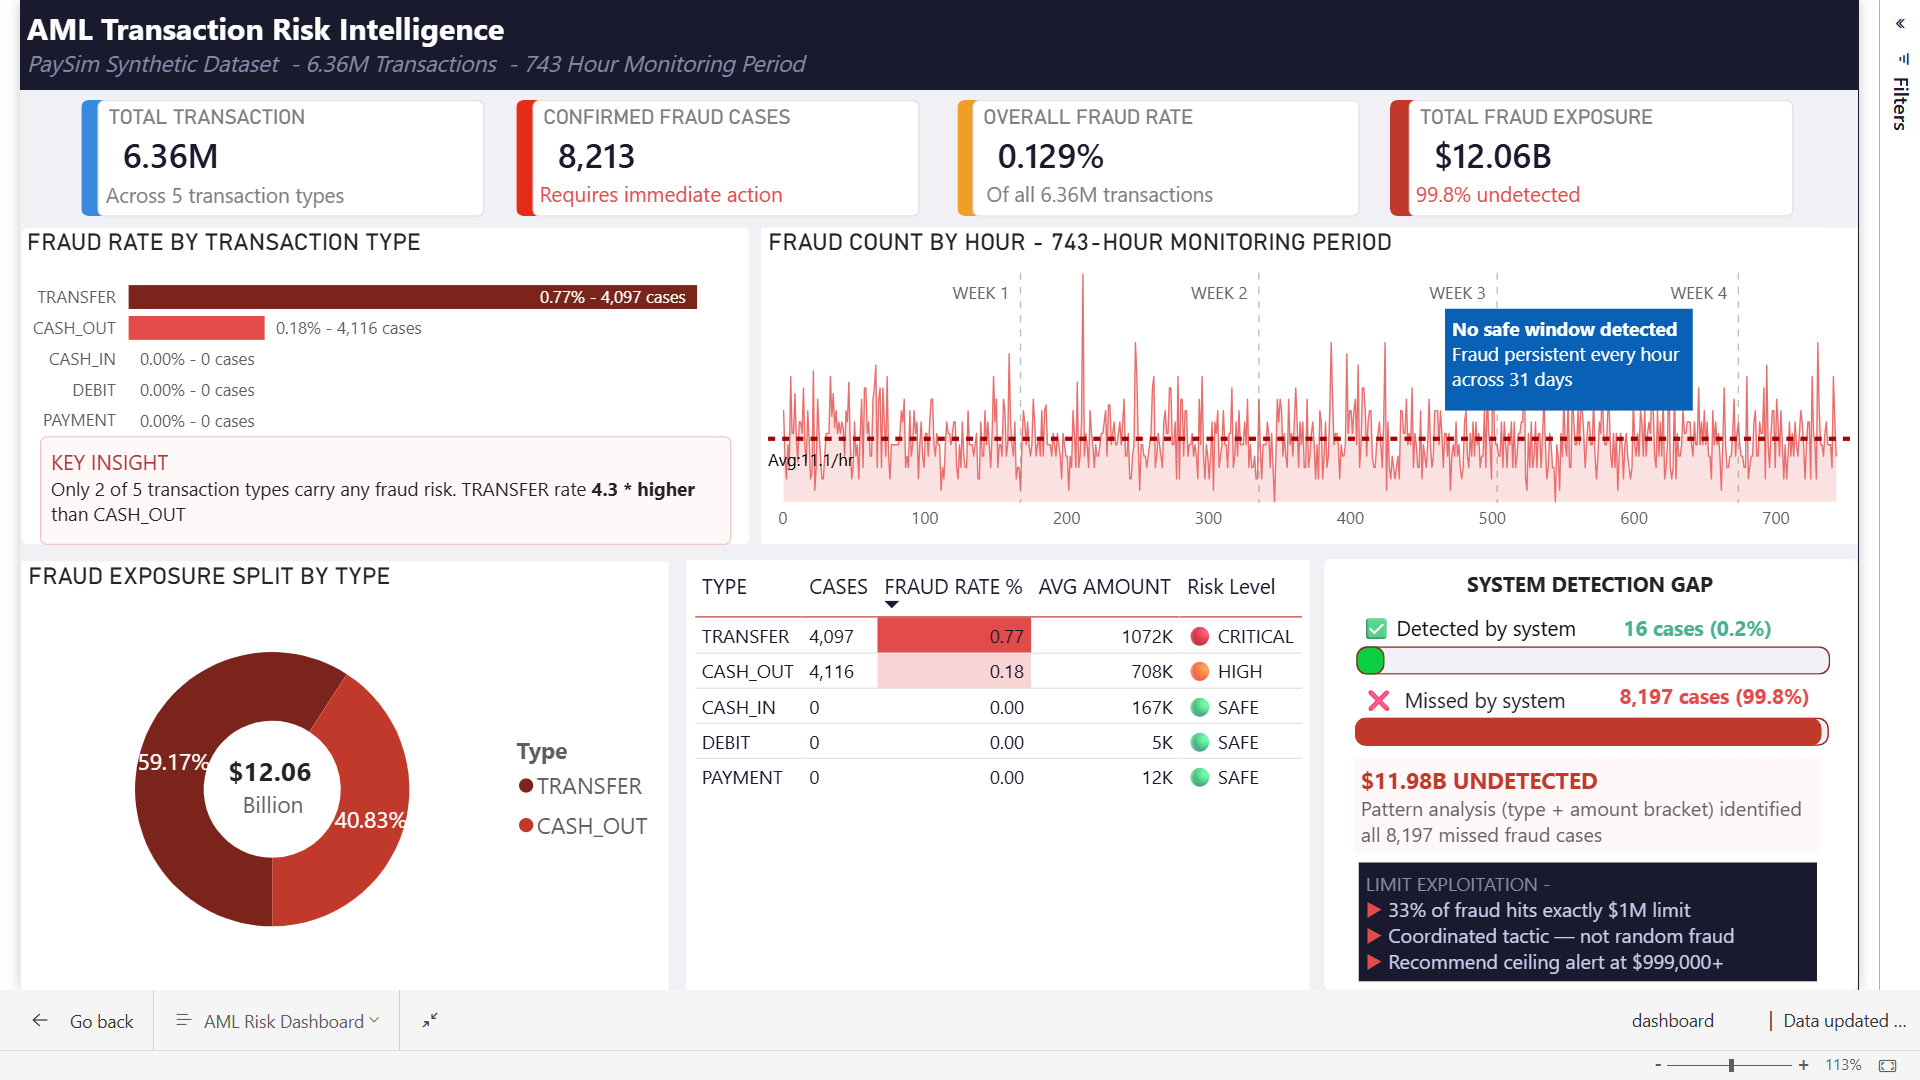

The page's visual inventory and layout, read from the dashboard file:
{"tool":"powerbi","page":{"name":"AML Risk Dashboard","canvas":[1300,700],"ordinal":0},"visuals":[{"type":"shape","box":[0,63.3,1299.6,810.5],"z":0},{"type":"textbox","box":[0,0,658,63],"z":1000},{"type":"shape","box":[43.4,70.4,285,82.1],"z":2000},{"type":"cardVisual","title":"TOTAL TRANSACTION","fields":{"Data":["fraud_summary.Total Transaction"]},"box":[55.1,70.4,273.3,82.1],"z":3000},{"type":"shape","box":[350.7,70.4,285,82.1],"z":4000},{"type":"shape","box":[662.7,70.4,283.8,82.1],"z":5000},{"type":"shape","box":[968.8,70.4,285,82.1],"z":6000},{"type":"shape","box":[1,161,515,224],"z":7000},{"type":"clusteredBarChart","title":"FRAUD RATE BY TRANSACTION TYPE","fields":{"Y":["fraud_summary.Fraud Rate %"],"Category":["fraud_summary.type"]},"box":[0,160.7,514.9,159.5],"z":8000},{"type":"textbox","box":[13.9,308.6,488.8,76.8],"z":9000},{"type":"shape","box":[524,161,756,224],"z":10000},{"type":"lineChart","title":"FRAUD COUNT BY HOUR - 743-HOUR MONITORING PERIOD","fields":{"Category":["fraud_summary.step"],"Y":["Sum(fraud_summary.fraud_count)"]},"box":[524.3,160.7,775.3,224],"z":11000},{"type":"shape","box":[921.9,395.3,377.7,305],"z":12000},{"type":"tableEx","fields":{"Values":["fraud_summary.type","fraud_summary.Total Fraud Cases","fraud_summary.Fraud Rate %","Avg(fraud_summary.avg_amount)","fraud_summary.Risk Level"]},"box":[471.1,395.5,440.9,304.8],"z":13000},{"type":"textbox","box":[56,123,272,38],"z":14000},{"type":"cardVisual","title":"CONFIRMED FRAUD CASES","fields":{"Data":["fraud_summary.Total Fraud Cases"]},"box":[362.4,70.4,273.3,82.1],"z":15000},{"type":"textbox","box":[362.4,122,272.1,30.5],"z":16000},{"type":"cardVisual","title":"OVERALL FRAUD RATE","fields":{"Data":["fraud_summary.Fraud Rate Display"]},"box":[673.3,70.4,273.3,82.1],"z":17000},{"type":"textbox","box":[674.4,122,272.1,30.5],"z":18000},{"type":"cardVisual","title":"TOTAL FRAUD EXPOSURE","fields":{"Data":["fraud_summary.Fraud Exposure $B"]},"box":[981.7,70.4,272.1,82.1],"z":19000},{"type":"textbox","box":[981.7,122,272.1,30.5],"z":20000},{"type":"textbox","box":[1007.5,218.6,175.3,71.8],"z":21000},{"type":"donutChart","title":"FRAUD EXPOSURE SPLIT BY TYPE","fields":{"Category":["fraud_summary.type"],"Y":["fraud_summary.Fraud Exposure $M"]},"box":[1.3,396.8,457.3,303.6],"z":22000},{"type":"textbox","box":[142,528,73,56.7],"z":23000},{"type":"textbox","box":[1017.8,398.1,186.4,37.8],"z":24000},{"type":"textbox","box":[943.5,428.3,187.7,39.1],"z":25000},{"type":"textbox","box":[1128.7,428.3,148.6,39.1],"z":26000},{"type":"shape","box":[944.8,457.3,335.1,20.2],"z":27000},{"type":"shape","box":[944.8,457.3,20.2,20.2],"z":28000},{"type":"textbox","box":[946,479.9,162.5,31.5],"z":29000},{"type":"textbox","box":[1126.2,477.4,151.2,31.5],"z":30000},{"type":"shape","box":[943.5,507.7,335.1,20.2],"z":31000},{"type":"shape","box":[943.5,507.7,330,20.2],"z":32000},{"type":"textbox","box":[943,536,329.6,68],"z":33000},{"type":"textbox","box":[947,610,323.7,84],"z":34000}]}

Visuals, with their boxes on the page's 1300x700 design canvas (x1, y1, x2, y2). These are canvas units, not pixel positions in the 1920x1080 screenshot, which may show the page scaled, cropped or inside an application window:
shape: [0,63,1300,874]
textbox: [0,0,658,63]
shape: [43,70,328,152]
"TOTAL TRANSACTION" cardVisual: [55,70,328,152]
shape: [351,70,636,152]
shape: [663,70,946,152]
shape: [969,70,1254,152]
shape: [1,161,516,385]
"FRAUD RATE BY TRANSACTION TYPE" clusteredBarChart: [0,161,515,320]
textbox: [14,309,503,385]
shape: [524,161,1280,385]
"FRAUD COUNT BY HOUR - 743-HOUR MONITORING PERIOD" lineChart: [524,161,1300,385]
shape: [922,395,1300,700]
tableEx - fraud_summary.type x fraud_summary.Total Fraud Cases: [471,396,912,700]
textbox: [56,123,328,161]
"CONFIRMED FRAUD CASES" cardVisual: [362,70,636,152]
textbox: [362,122,634,152]
"OVERALL FRAUD RATE" cardVisual: [673,70,947,152]
textbox: [674,122,946,152]
"TOTAL FRAUD EXPOSURE" cardVisual: [982,70,1254,152]
textbox: [982,122,1254,152]
textbox: [1008,219,1183,290]
"FRAUD EXPOSURE SPLIT BY TYPE" donutChart: [1,397,459,700]
textbox: [142,528,215,585]
textbox: [1018,398,1204,436]
textbox: [944,428,1131,467]
textbox: [1129,428,1277,467]
shape: [945,457,1280,478]
shape: [945,457,965,478]
textbox: [946,480,1108,511]
textbox: [1126,477,1277,509]
shape: [944,508,1279,528]
shape: [944,508,1274,528]
textbox: [943,536,1273,604]
textbox: [947,610,1271,694]
